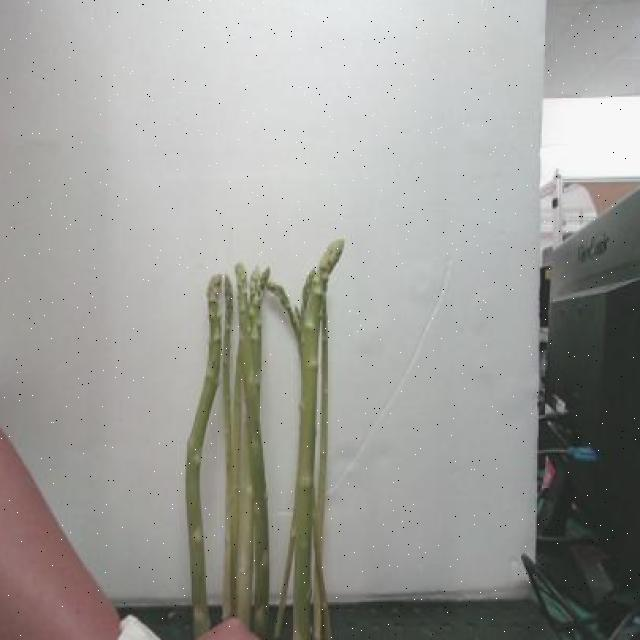aspargus: (291, 235, 346, 640), (184, 271, 224, 639)
